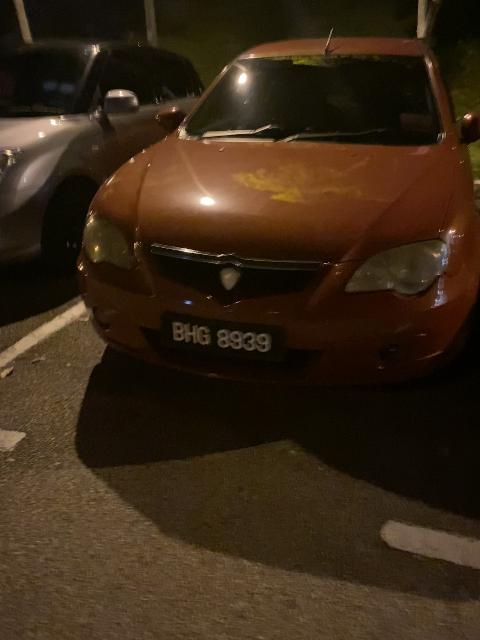License_Plate: (165, 313, 286, 363)
car: (81, 16, 480, 390)
